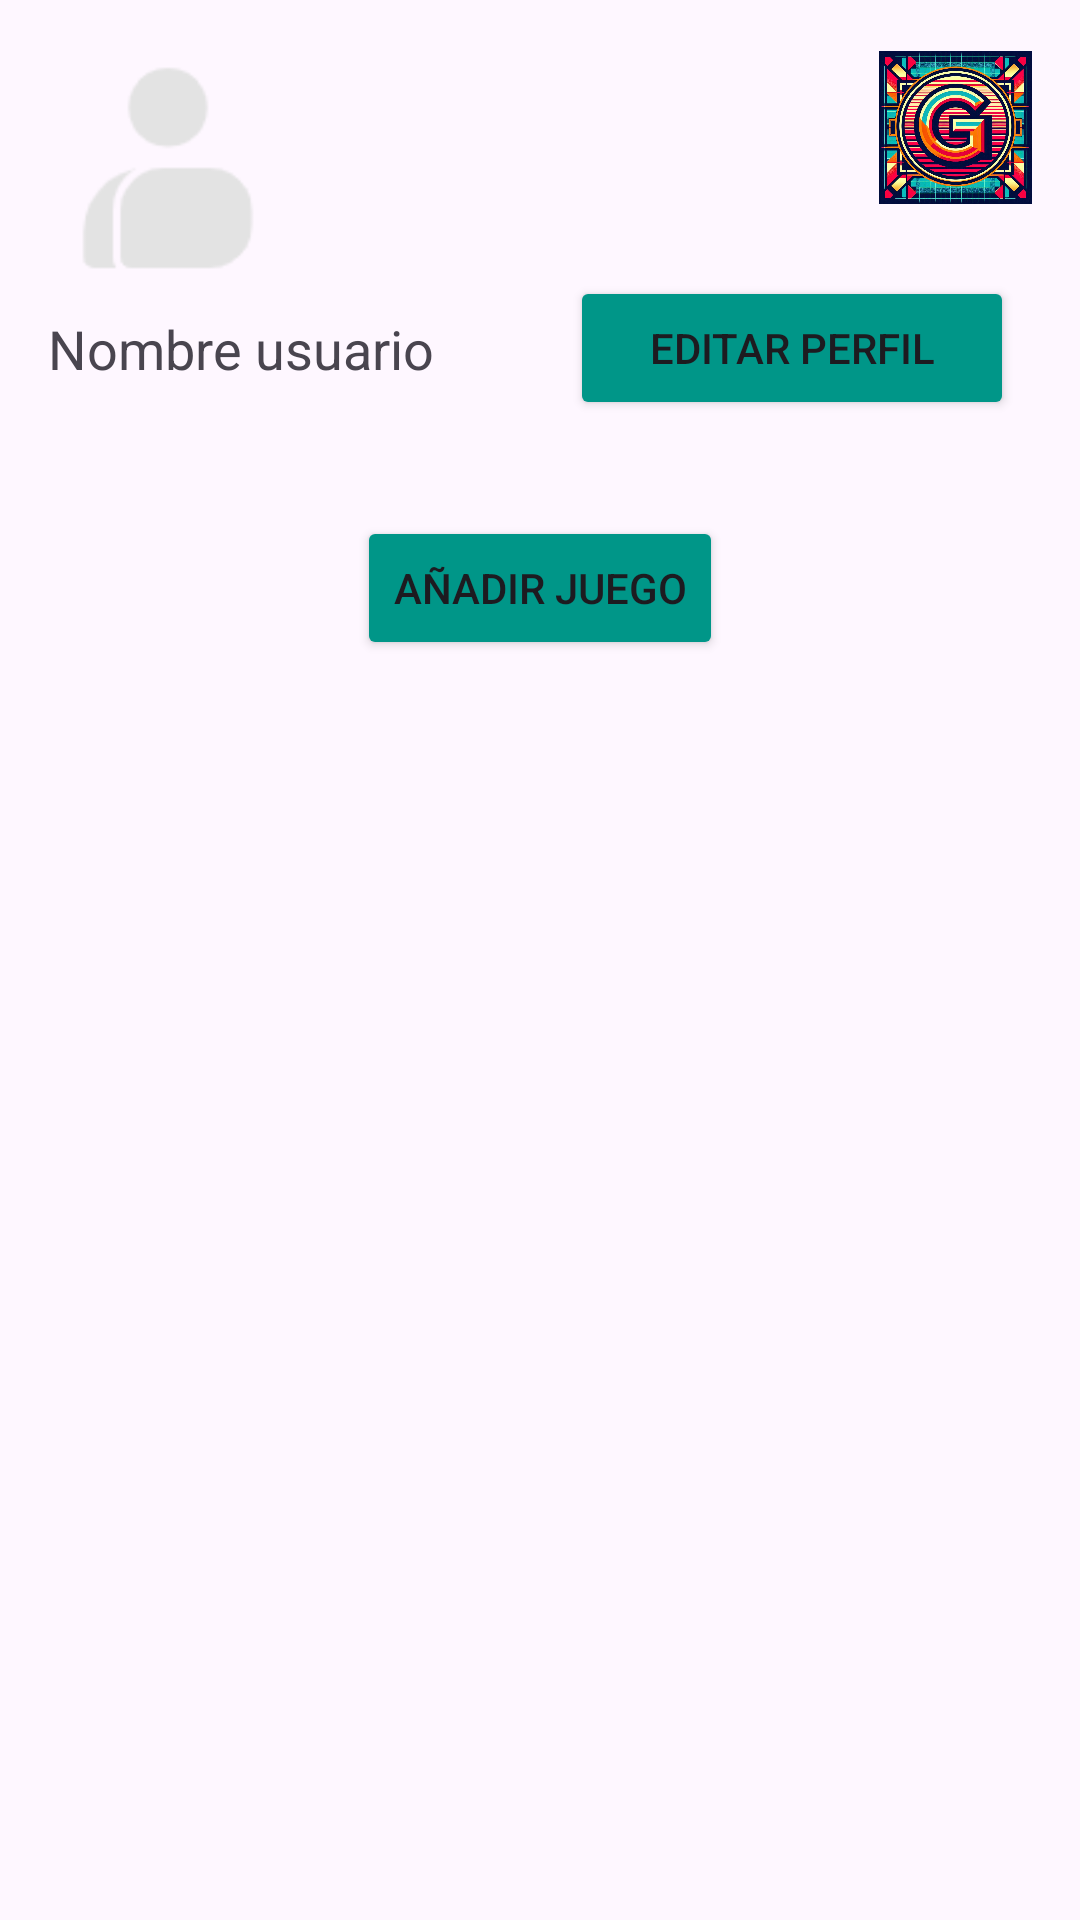

Icons on this 1080×1920 Android screen, each with the point to tap as (x=x, y=y):
perfil usuario: (x=167, y=168)
